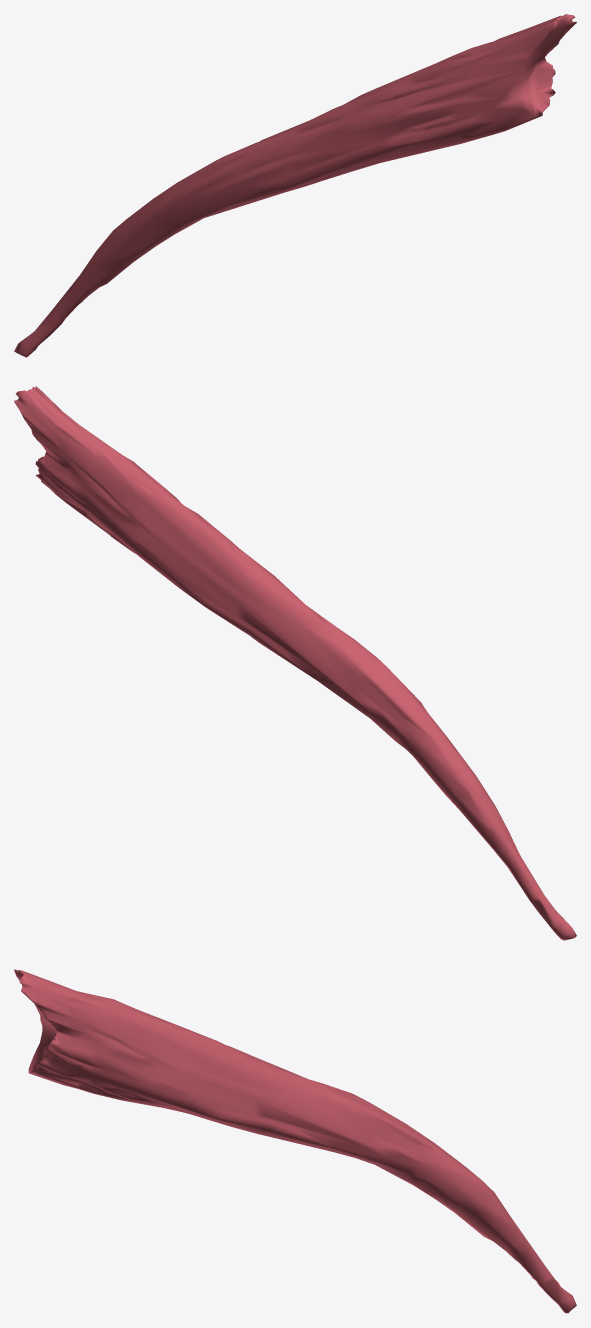
3 renders of one model, top to bottom at view 1: azimuth 30°, elevation 25°; view 2: azimuth 210°, elevation 25°; view 3: azimuth 270°, elevation 25°, orthographic. The views are drawn at different scales.
Parts seen in each view (by area): view 1: 左侧二腹肌后腹; view 2: 左侧二腹肌后腹; view 3: 左侧二腹肌后腹.
Boxes of the visible parts, left/top/right/bottom form: 左侧二腹肌后腹: left=14, top=14, right=576, bottom=357; 左侧二腹肌后腹: left=14, top=386, right=576, bottom=940; 左侧二腹肌后腹: left=14, top=969, right=576, bottom=1313.
Size of the model in its own units: 0.0692 by 0.093 by 0.0945.
